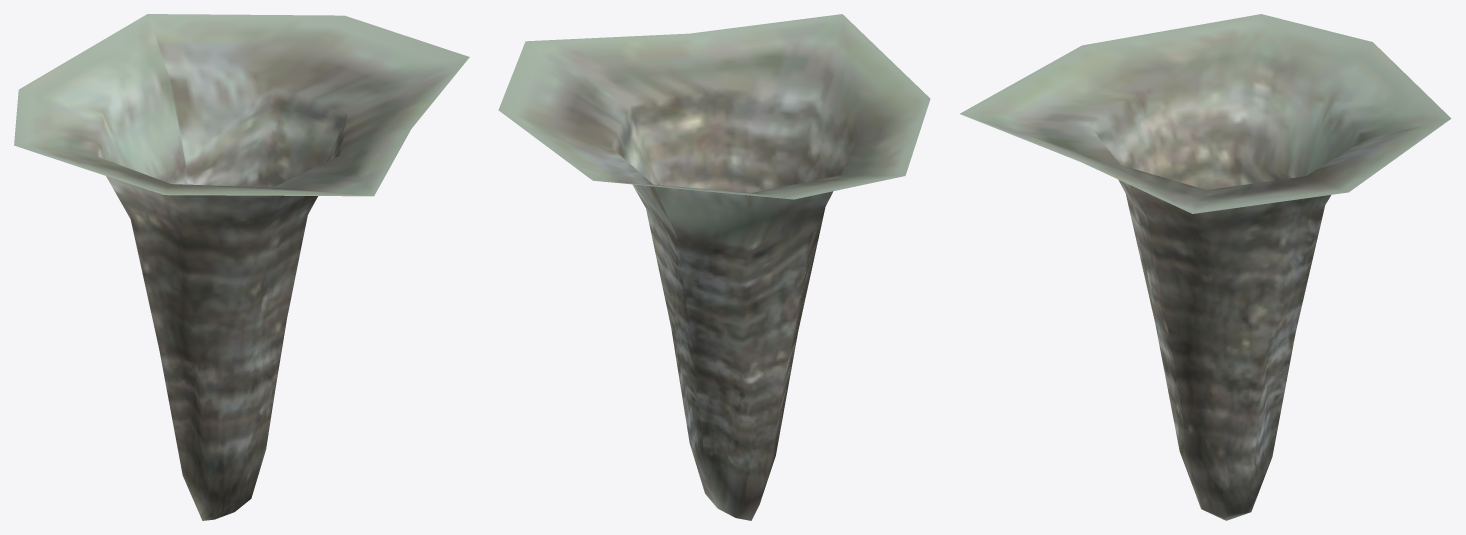
Rendered from TROLLHOLE02_PS-MAINSTALAG76.fbx.
The picture shows the model from 3 angles, left to right: view 1: azimuth 30°, elevation 25°; view 2: azimuth 150°, elevation 25°; view 3: azimuth 270°, elevation 25°; orthographic projection. The views are drawn at different scales.
Parts seen in each view (by area): view 1: TROLLHOLE02_PS-MAINSTALAG76; view 2: TROLLHOLE02_PS-MAINSTALAG76; view 3: TROLLHOLE02_PS-MAINSTALAG76.
Part boxes in pixels (x1,y1,x2,y2): TROLLHOLE02_PS-MAINSTALAG76: (14, 14, 469, 520); TROLLHOLE02_PS-MAINSTALAG76: (498, 14, 930, 520); TROLLHOLE02_PS-MAINSTALAG76: (960, 14, 1451, 520).
Size of the model in its own units: 19463 by 18343 by 19244.
1 material, 1 textured.
